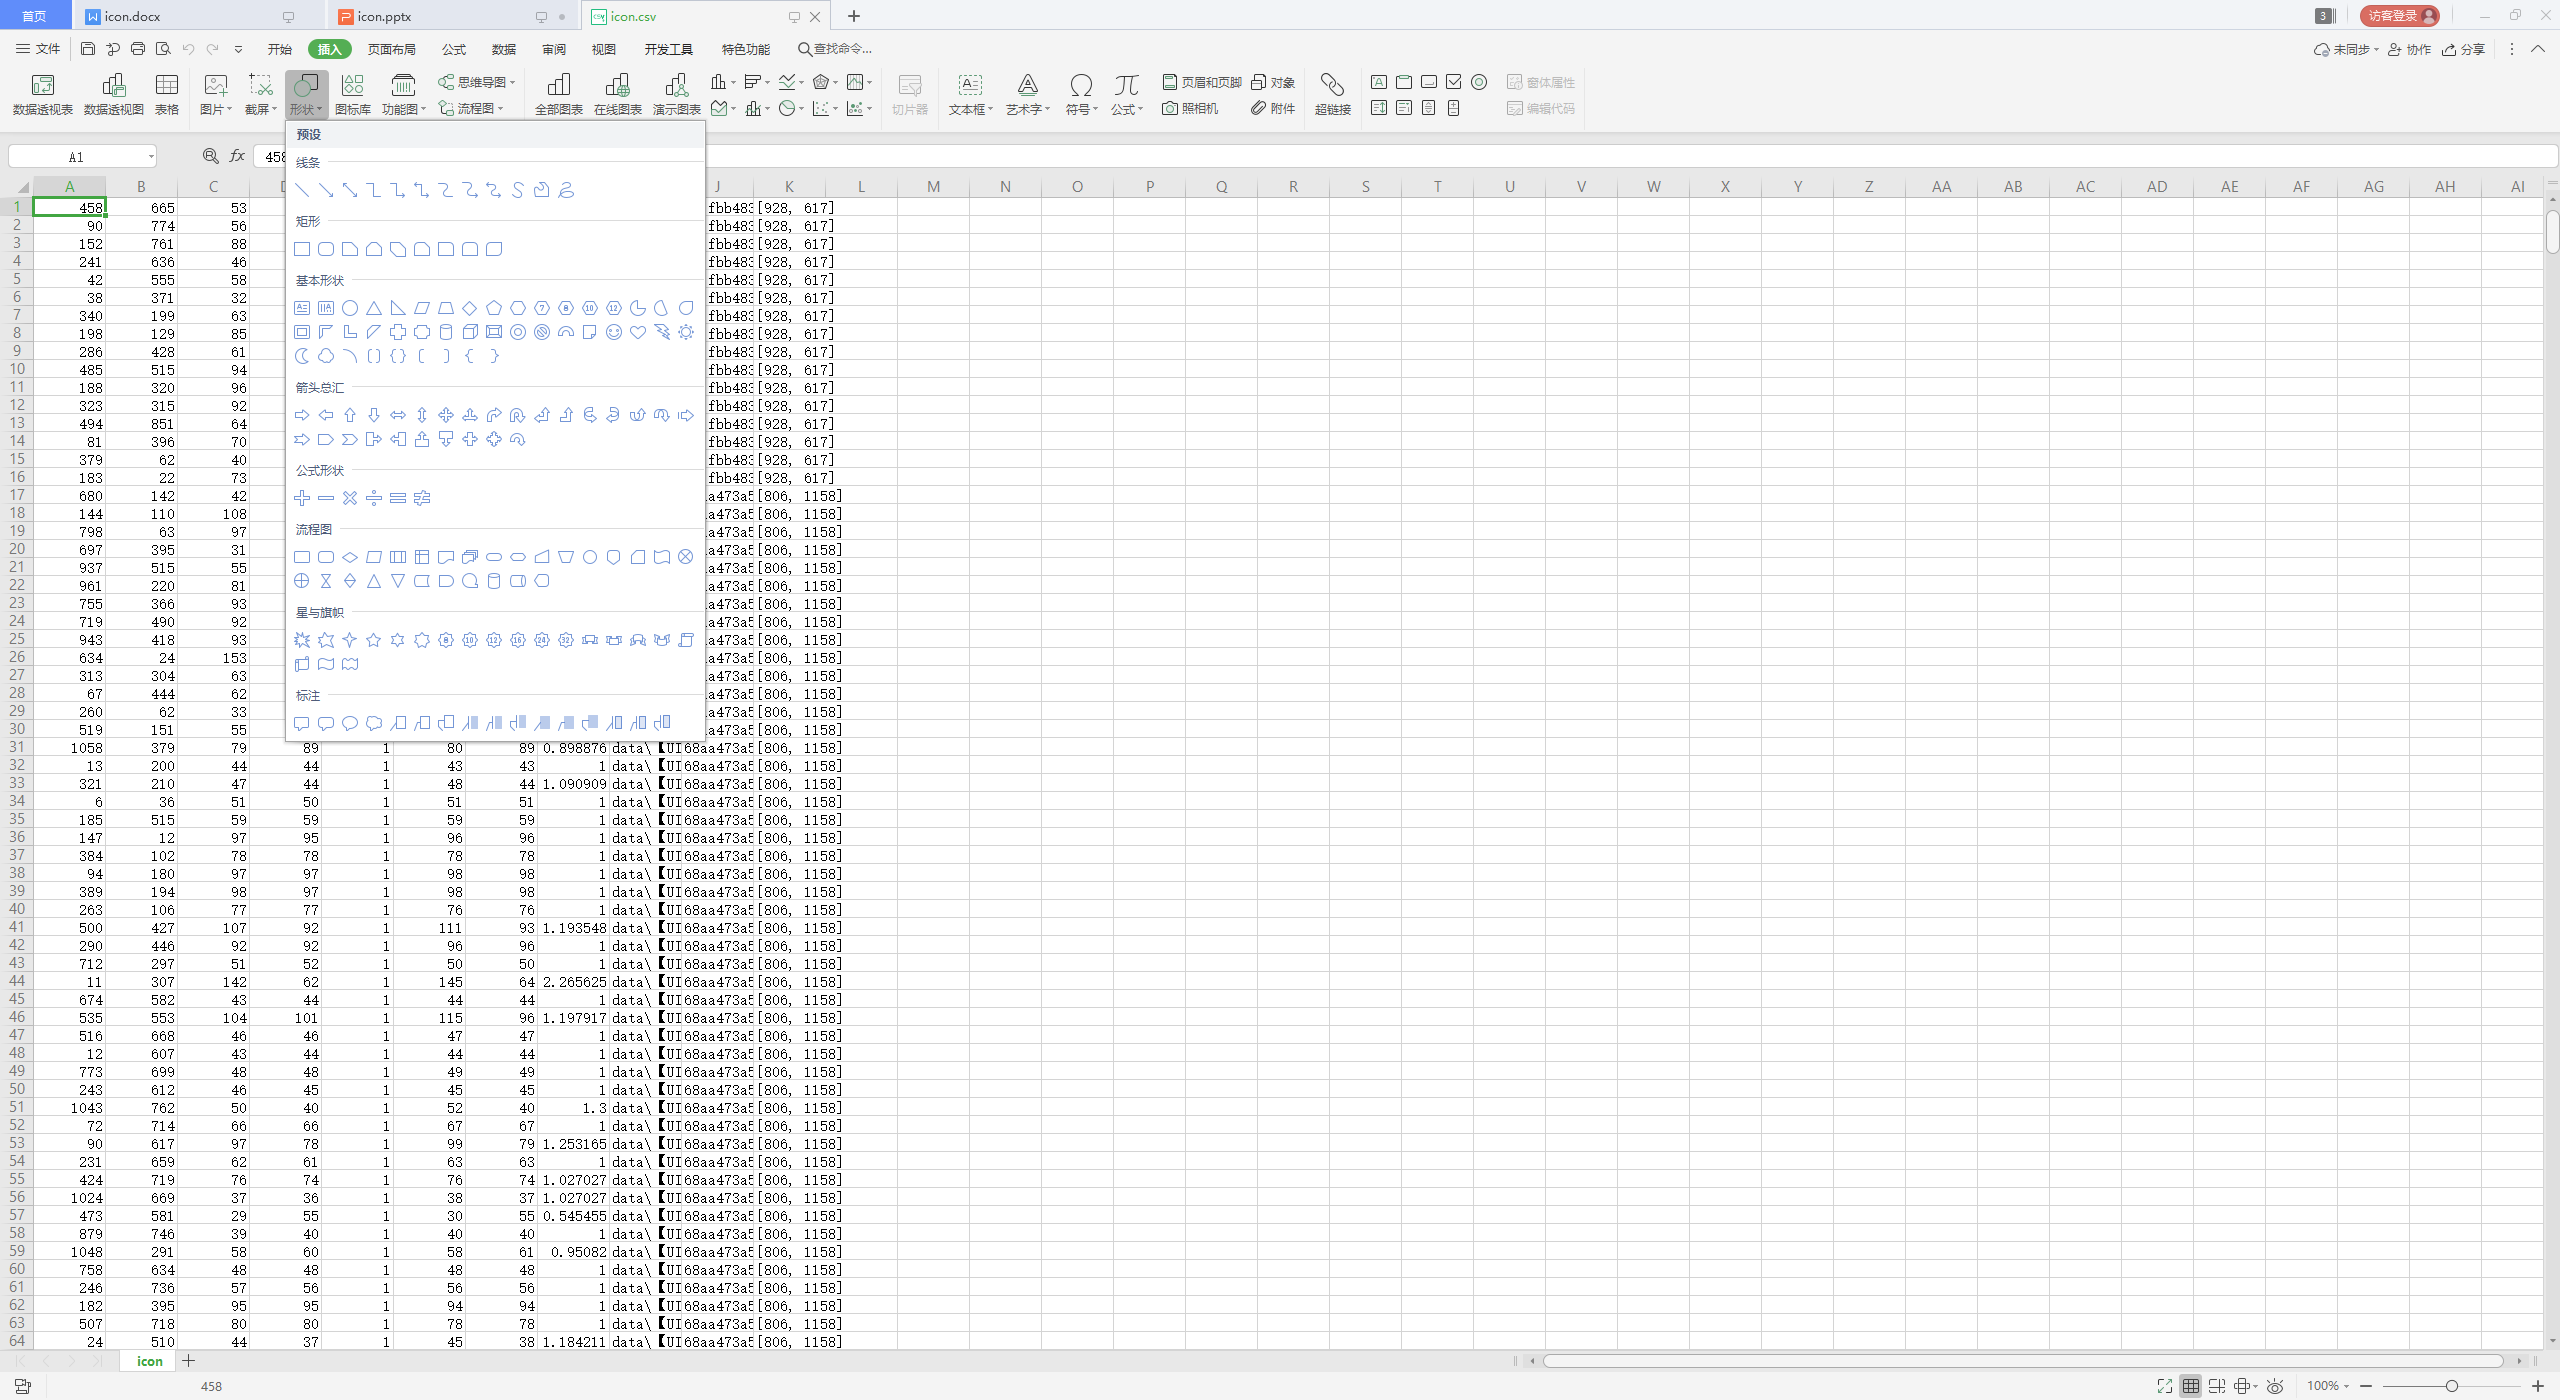character: (290, 521, 345, 540), (295, 272, 350, 290), (291, 462, 347, 479), (291, 603, 347, 621), (295, 379, 348, 397), (1526, 76, 1584, 91), (1526, 102, 1584, 117), (81, 103, 147, 117), (1179, 76, 1245, 90), (640, 41, 702, 55), (357, 10, 417, 24), (610, 9, 671, 22), (364, 43, 426, 55), (815, 43, 877, 55), (10, 103, 72, 116), (591, 102, 645, 116), (103, 10, 164, 22), (717, 43, 777, 55), (455, 76, 505, 90), (2365, 7, 2415, 21), (336, 102, 374, 119), (531, 103, 584, 116), (652, 103, 703, 116), (197, 1378, 229, 1397), (134, 1353, 167, 1372), (2336, 41, 2370, 59), (893, 102, 931, 117), (1003, 102, 1041, 117), (1183, 102, 1221, 117), (1315, 102, 1353, 117), (2305, 1378, 2343, 1393), (34, 41, 66, 59), (314, 41, 345, 59), (438, 41, 469, 59), (459, 100, 493, 116), (295, 688, 326, 705), (945, 103, 983, 117), (19, 9, 50, 24), (264, 41, 295, 57), (490, 41, 521, 57), (540, 41, 571, 57), (590, 41, 621, 57), (153, 102, 184, 117), (293, 126, 324, 141), (295, 155, 326, 171), (295, 214, 326, 229), (64, 148, 95, 164), (381, 102, 415, 116), (1108, 102, 1136, 119), (1271, 74, 1298, 91), (1271, 98, 1298, 116), (2463, 41, 2489, 59), (1062, 102, 1090, 117), (2408, 41, 2432, 59), (198, 102, 222, 117), (290, 102, 314, 117), (245, 102, 267, 117)
icon: (288, 71, 322, 102), (1317, 71, 1346, 98), (338, 71, 365, 98), (545, 69, 572, 97), (247, 71, 276, 97), (1112, 72, 1141, 98), (102, 71, 129, 97), (664, 71, 691, 97), (603, 71, 631, 97), (896, 72, 924, 98), (153, 71, 179, 97), (957, 71, 983, 97), (203, 72, 229, 97), (1069, 72, 1095, 97), (2177, 1372, 2203, 1397), (391, 72, 415, 97), (1015, 72, 1040, 97), (29, 74, 55, 95), (2205, 1374, 2227, 1397), (776, 69, 796, 93), (2231, 1374, 2251, 1397), (2313, 5, 2338, 24), (741, 71, 762, 91), (1443, 71, 1464, 91), (1369, 97, 1389, 117), (2419, 5, 2439, 26), (2155, 1374, 2176, 1395), (2263, 1374, 2284, 1395), (224, 145, 247, 164), (436, 72, 457, 91), (810, 98, 831, 117), (1248, 72, 1269, 91), (1369, 72, 1389, 91), (291, 641, 310, 662), (200, 147, 219, 166), (557, 179, 576, 198), (412, 303, 431, 322), (603, 303, 622, 322), (810, 72, 829, 91), (845, 72, 864, 91), (1160, 72, 1179, 91), (1160, 98, 1179, 117), (1395, 97, 1414, 116), (1505, 72, 1524, 91), (1395, 72, 1414, 91), (1419, 97, 1438, 116), (1505, 98, 1524, 117), (1469, 72, 1488, 91), (291, 571, 310, 590), (460, 714, 479, 733), (557, 629, 576, 648), (14, 1376, 33, 1395), (2503, 38, 2520, 59), (410, 490, 431, 507), (291, 347, 310, 364), (410, 181, 429, 198), (709, 98, 727, 116), (509, 179, 526, 198), (628, 298, 646, 316), (533, 179, 550, 198), (590, 9, 609, 26), (460, 179, 478, 198), (652, 322, 671, 340), (436, 98, 455, 116), (709, 72, 727, 90), (628, 405, 646, 422), (796, 40, 814, 59), (1250, 98, 1269, 116), (1443, 98, 1462, 116), (1419, 72, 1438, 90), (291, 488, 310, 505), (315, 490, 334, 507), (293, 631, 310, 650), (603, 548, 622, 566), (652, 548, 671, 566), (579, 714, 598, 731), (436, 714, 455, 731), (509, 714, 528, 731), (509, 631, 528, 648), (579, 629, 598, 647), (652, 714, 671, 731), (434, 572, 453, 590), (653, 631, 672, 648), (317, 347, 334, 364), (341, 298, 359, 316), (293, 240, 310, 257), (390, 322, 407, 340), (293, 181, 310, 198), (293, 322, 310, 340), (103, 40, 121, 57), (317, 298, 334, 316), (293, 298, 310, 316), (336, 7, 353, 24), (460, 240, 478, 257), (557, 298, 574, 316), (484, 298, 502, 316), (605, 322, 622, 340), (460, 322, 478, 340), (605, 298, 622, 316), (484, 322, 502, 340), (652, 298, 669, 316), (509, 322, 526, 340), (484, 181, 502, 198), (436, 322, 453, 340), (484, 240, 502, 257), (677, 322, 695, 340), (533, 322, 550, 340), (436, 298, 453, 316), (436, 181, 453, 198), (533, 405, 550, 422), (581, 405, 598, 422), (436, 407, 453, 424), (777, 98, 795, 116), (845, 7, 862, 24), (846, 98, 864, 116), (317, 716, 334, 733), (341, 714, 359, 731), (365, 714, 383, 731), (317, 548, 334, 566), (341, 548, 359, 566), (390, 714, 407, 731), (293, 548, 310, 566), (390, 429, 407, 447), (293, 655, 310, 672), (484, 572, 502, 590), (436, 548, 453, 566), (436, 429, 453, 447), (557, 714, 574, 731), (460, 429, 478, 447), (484, 429, 502, 447), (605, 714, 622, 731), (533, 714, 550, 731), (484, 714, 502, 731), (533, 631, 550, 648), (12, 1352, 29, 1369), (88, 1352, 105, 1369), (629, 633, 646, 650), (745, 98, 760, 117), (364, 490, 383, 505), (340, 490, 359, 505), (79, 40, 97, 55), (365, 241, 383, 257), (341, 241, 359, 257), (317, 322, 333, 340), (390, 241, 407, 257), (390, 348, 407, 364), (153, 40, 171, 55), (365, 300, 383, 316), (317, 183, 334, 198), (390, 300, 407, 316), (317, 241, 334, 257), (84, 9, 102, 24), (390, 407, 407, 422), (14, 40, 31, 55), (279, 9, 297, 24), (364, 183, 381, 198), (317, 631, 333, 648), (581, 298, 596, 316), (510, 298, 526, 316), (460, 300, 478, 316), (486, 405, 502, 422), (436, 241, 453, 257), (533, 298, 548, 316), (653, 407, 671, 422), (677, 407, 695, 422), (629, 324, 646, 340), (509, 407, 526, 422), (559, 405, 574, 422), (605, 405, 621, 422), (786, 9, 803, 24), (2313, 41, 2331, 57), (2439, 41, 2457, 57), (365, 548, 383, 564), (341, 572, 359, 588), (390, 548, 407, 564), (390, 572, 407, 588), (293, 431, 310, 447), (293, 716, 310, 731), (317, 431, 334, 447), (317, 655, 334, 671), (341, 655, 359, 671), (390, 490, 407, 505), (460, 572, 478, 588), (460, 548, 478, 564), (414, 548, 429, 566), (629, 548, 646, 564), (581, 548, 598, 564), (677, 631, 695, 647), (677, 547, 693, 564), (557, 548, 574, 564), (414, 429, 429, 447), (414, 714, 429, 731), (509, 431, 526, 447), (486, 631, 502, 648), (462, 631, 478, 648), (36, 1352, 53, 1367), (179, 1352, 197, 1367), (2529, 1378, 2546, 1393), (2443, 1378, 2460, 1393), (340, 629, 355, 647), (414, 629, 429, 647), (607, 633, 622, 650), (2543, 1333, 2560, 1348), (2369, 45, 2386, 60), (365, 324, 381, 340), (365, 407, 381, 422), (365, 348, 381, 364), (341, 324, 357, 340), (341, 347, 357, 362), (129, 40, 145, 55), (341, 407, 357, 422), (295, 407, 310, 422), (317, 407, 333, 422), (390, 183, 405, 198), (581, 324, 596, 340), (414, 241, 429, 257), (414, 324, 429, 340), (533, 9, 548, 24), (557, 322, 572, 338), (677, 300, 693, 316), (414, 300, 429, 316), (462, 407, 478, 422), (414, 407, 429, 422), (807, 9, 822, 24), (2388, 41, 2403, 57), (365, 572, 381, 588), (341, 431, 357, 447), (365, 431, 381, 447), (317, 572, 333, 588), (486, 548, 502, 564), (414, 572, 429, 588), (533, 548, 548, 564), (64, 1352, 79, 1367), (2358, 1376, 2374, 1391), (390, 633, 405, 648), (2512, 1353, 2527, 1369), (179, 41, 197, 55), (203, 41, 221, 55), (2529, 41, 2546, 55), (509, 572, 526, 586), (1522, 1353, 1539, 1367), (365, 629, 379, 647), (440, 629, 453, 647), (145, 145, 155, 167), (341, 183, 357, 197), (462, 348, 476, 364), (2538, 7, 2553, 21), (2477, 9, 2493, 22), (533, 572, 548, 586), (510, 550, 526, 564), (629, 716, 645, 729), (2508, 7, 2522, 21), (1508, 1353, 1522, 1367), (222, 102, 236, 116), (267, 102, 281, 116), (314, 103, 328, 117), (488, 348, 500, 364), (440, 348, 452, 364), (984, 102, 996, 117), (1091, 102, 1103, 117), (2546, 193, 2558, 209), (555, 9, 567, 22), (415, 348, 428, 362), (2546, 176, 2558, 190), (1138, 102, 1148, 117), (233, 43, 245, 55), (417, 103, 429, 116), (509, 76, 519, 90), (831, 100, 841, 114), (2341, 1378, 2351, 1391), (1043, 102, 1053, 116), (495, 102, 505, 114), (729, 102, 740, 114), (729, 78, 740, 90), (865, 74, 874, 88), (764, 76, 772, 90), (796, 78, 805, 91), (865, 102, 874, 114), (764, 103, 772, 116), (796, 102, 805, 114)
